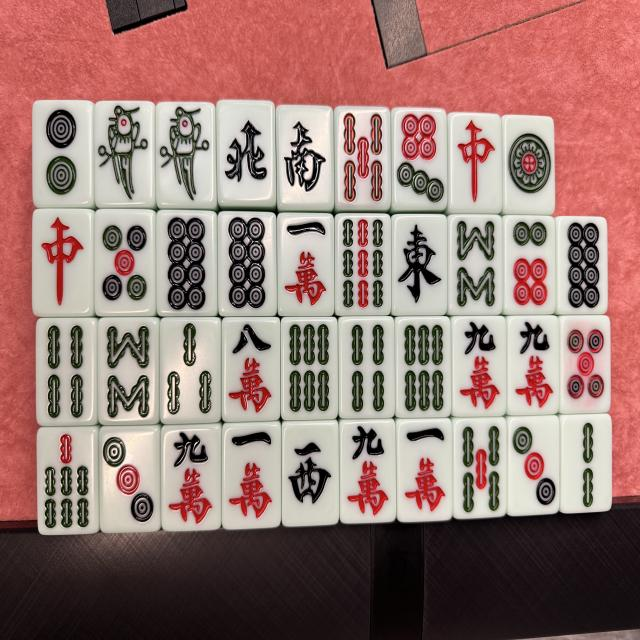hdr: (32, 209, 93, 317), (449, 112, 503, 213)
hwe: (393, 214, 448, 314)
hwn: (215, 100, 276, 208)
hws: (277, 104, 333, 210)
hww: (282, 421, 338, 527)
sb1: (93, 102, 153, 206), (156, 102, 214, 207)
sb2: (562, 414, 612, 514)
sb3: (160, 319, 222, 422)
sb4: (36, 318, 96, 425), (340, 315, 395, 417)
sb5: (334, 107, 391, 210), (454, 418, 506, 519)
sb6: (281, 318, 338, 419), (398, 318, 450, 416)
sb7: (36, 428, 98, 536)
sb8: (98, 318, 158, 426), (450, 215, 503, 315)
sb9: (336, 213, 391, 316)
sc1: (222, 422, 280, 528), (397, 419, 452, 522)
sc8: (222, 317, 280, 421)
sc9: (162, 424, 222, 530), (340, 419, 396, 523), (507, 316, 560, 416), (452, 317, 506, 415)
sd1: (504, 117, 554, 215)
sd2: (32, 100, 92, 207)
sd3: (100, 426, 160, 532), (508, 416, 559, 516)
sd5: (95, 209, 155, 315), (562, 316, 611, 414)
sd6: (504, 215, 556, 315)
sd7: (393, 108, 448, 210)
sd8: (218, 211, 277, 317), (156, 211, 216, 315), (557, 217, 608, 315)
